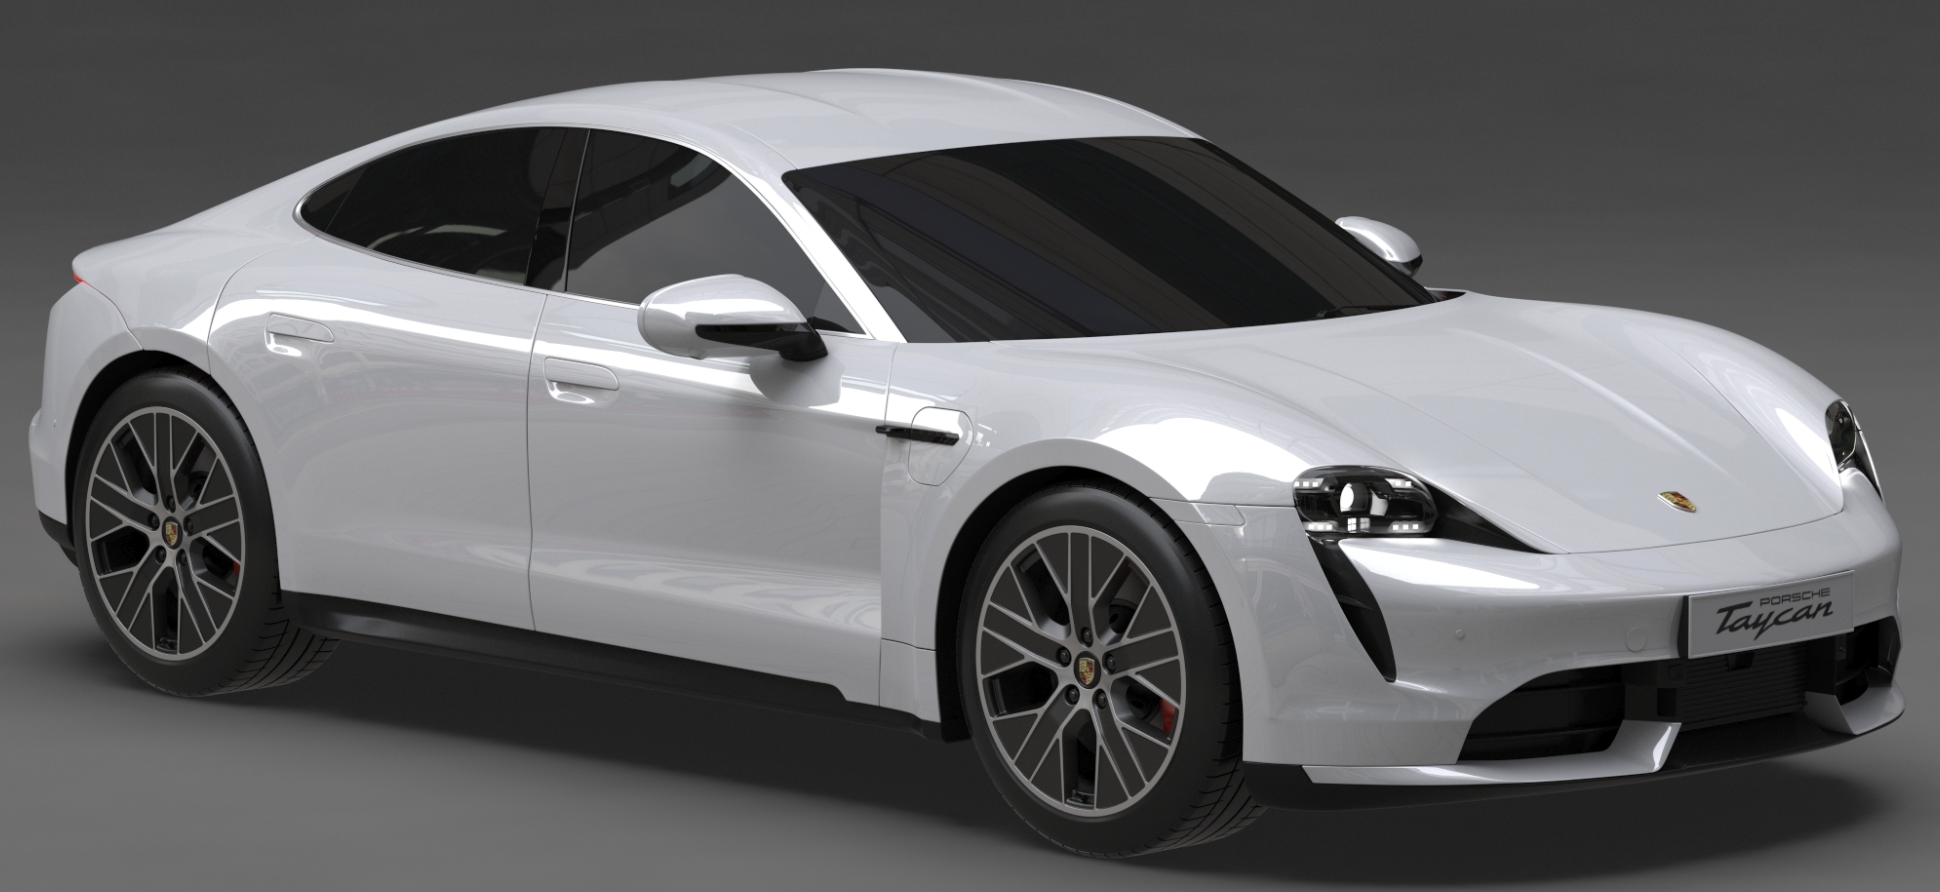hatch: (898, 400, 981, 494)
